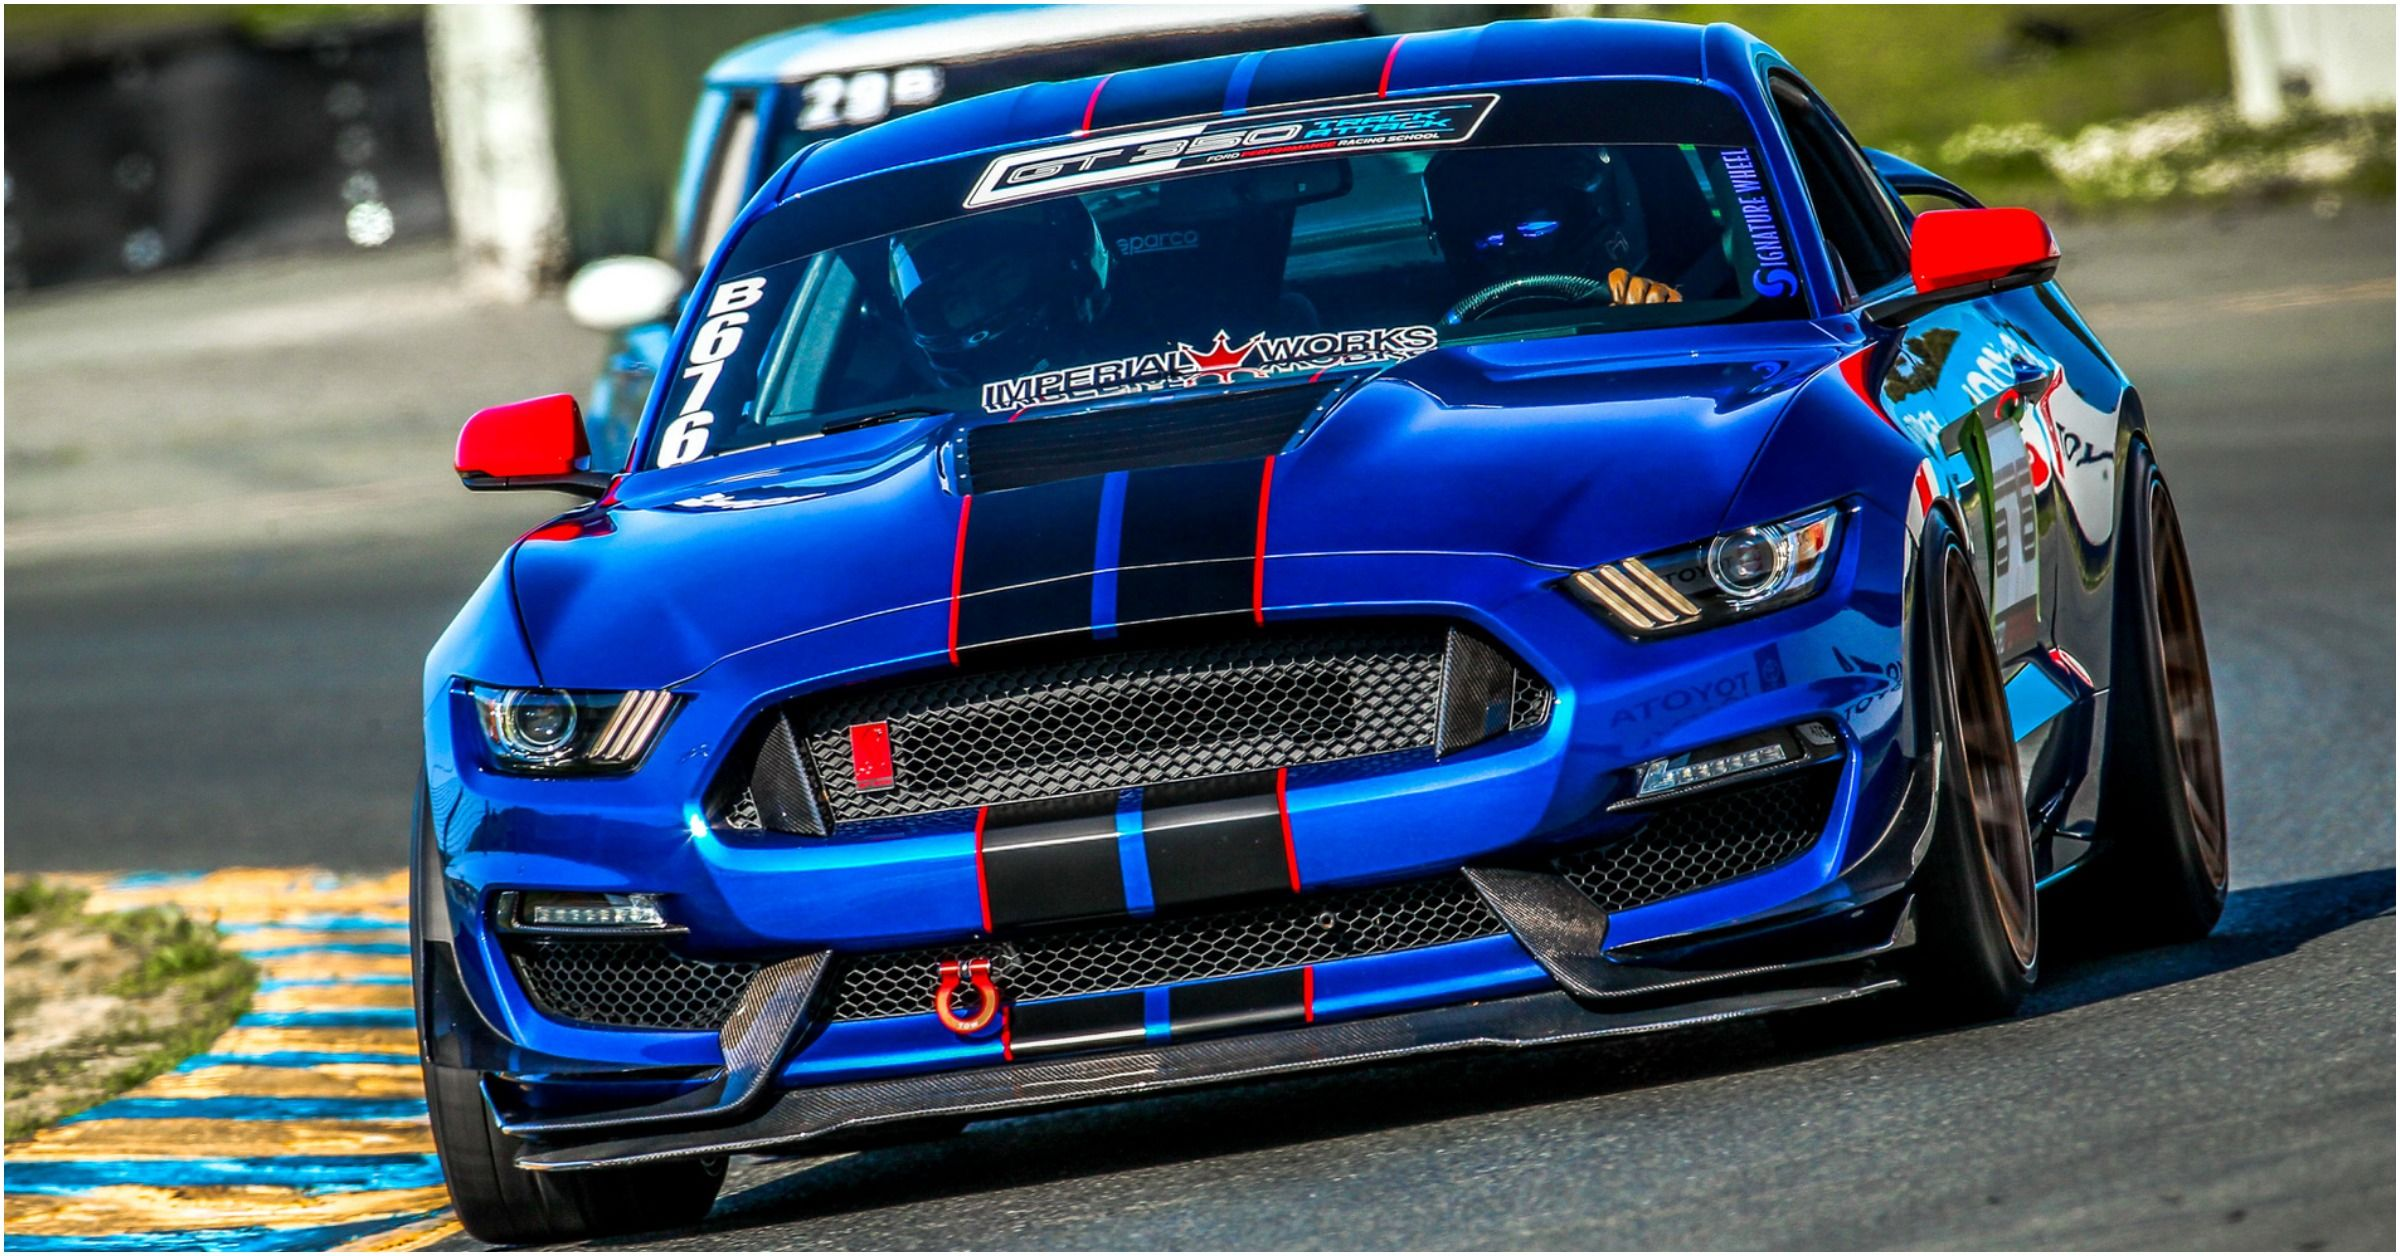headlight: (1573, 480, 1860, 638), (429, 662, 710, 789)
wheel: (394, 989, 756, 1234), (2103, 432, 2240, 946), (1913, 492, 2022, 1058)
